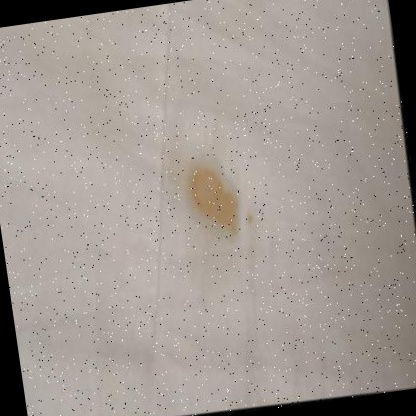kimchi: (177, 157, 251, 246)
